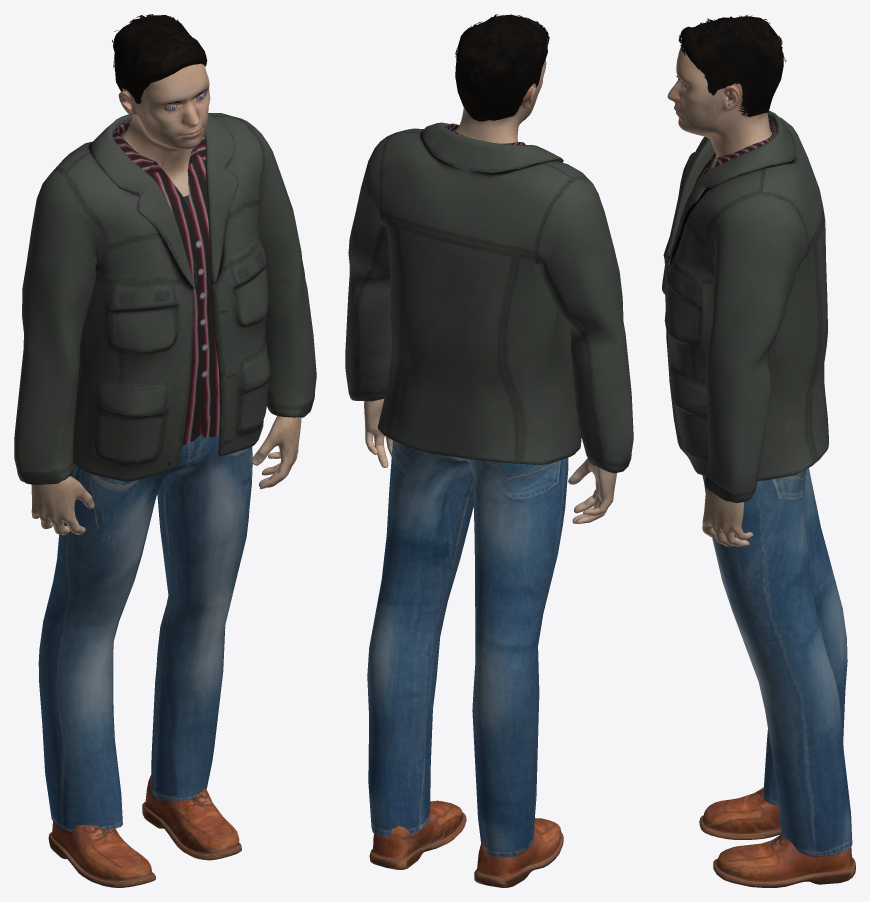
File: daniel.glb
3 renders of one model, left to right at view 1: azimuth 30°, elevation 25°; view 2: azimuth 150°, elevation 25°; view 3: azimuth 270°, elevation 25°, orthographic. The views are drawn at different scales.
Bounding box in the file's own units: 0.6589 × 1.79 × 0.3804.
Materials: 9 (9 with a texture image).
